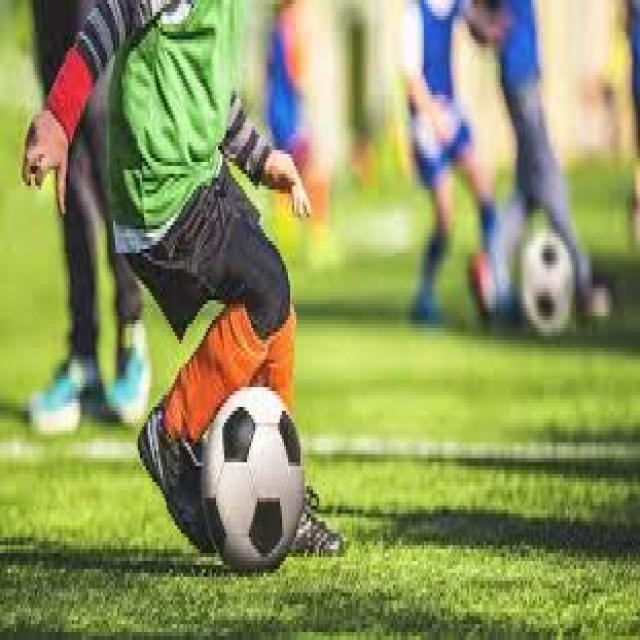ball: (203, 385, 305, 573)
